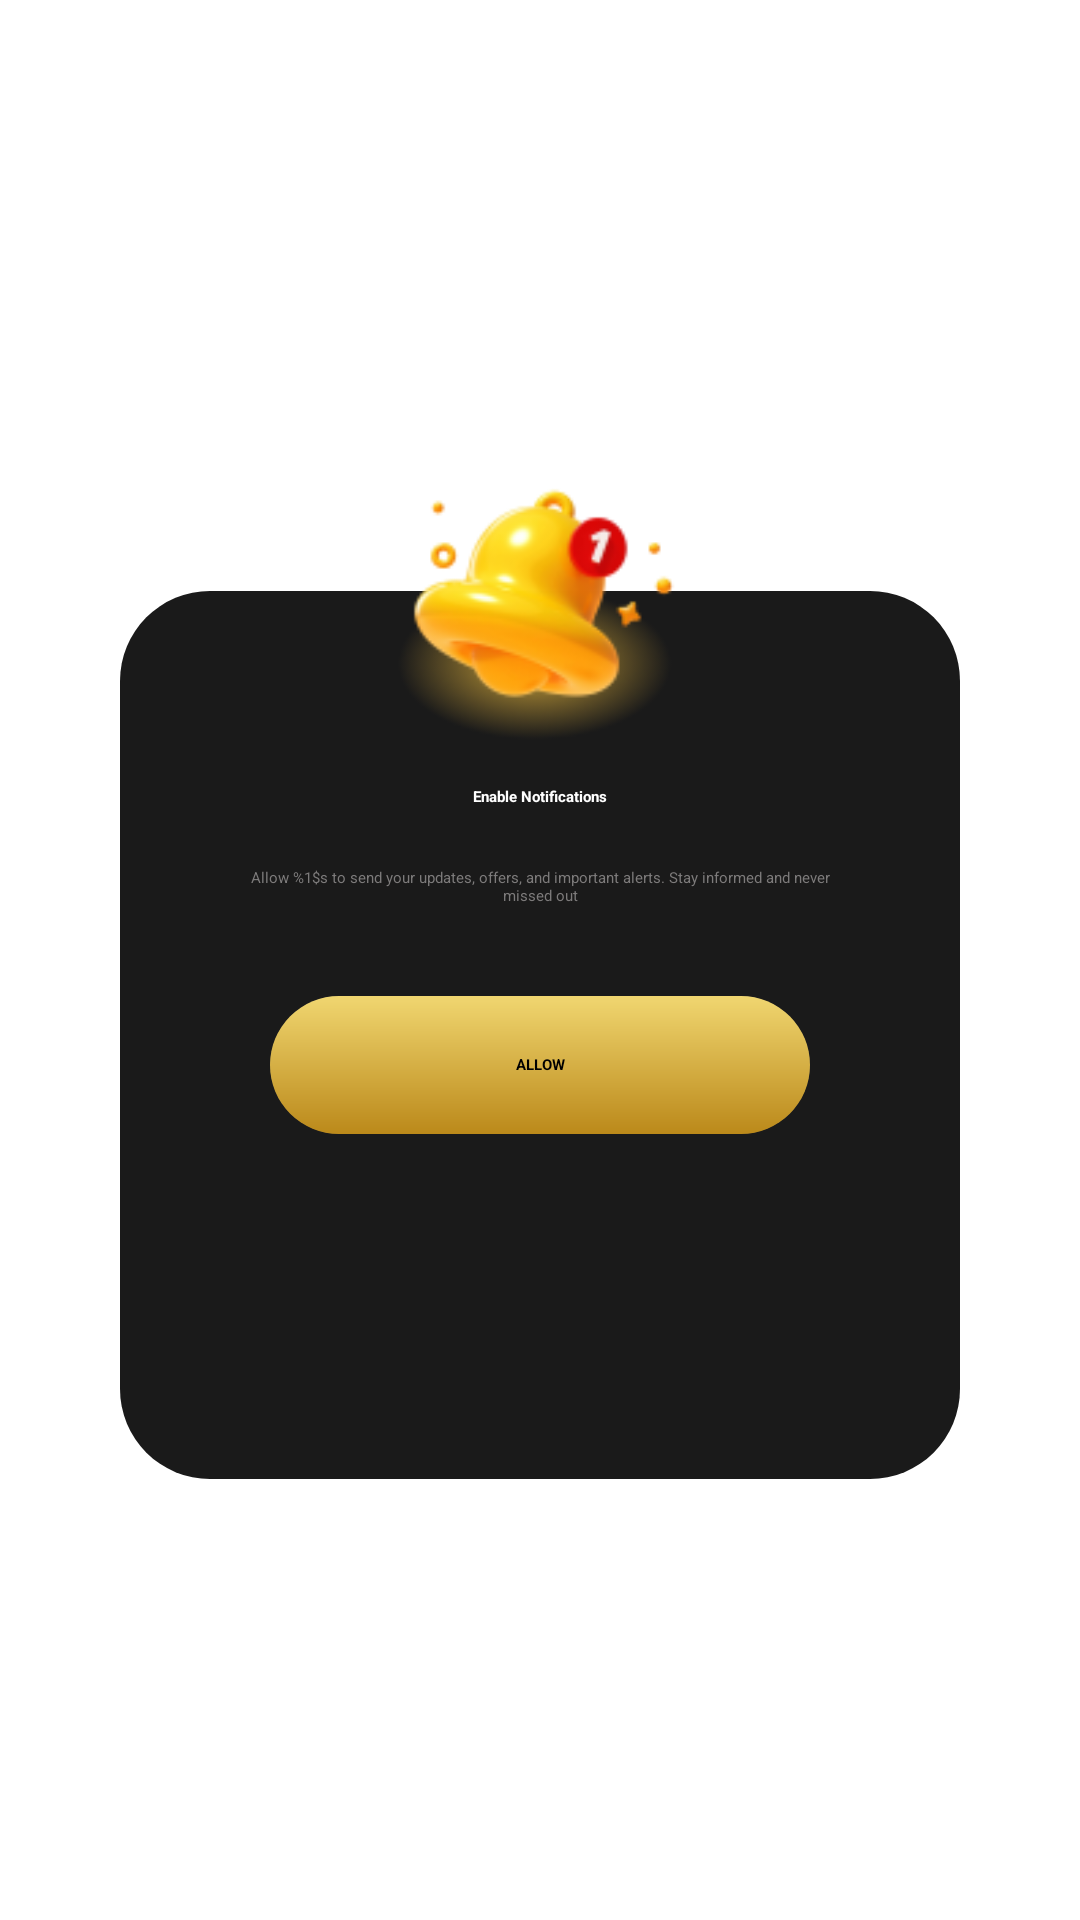

Where to tap for icons on this 1080x1920 app screen, as (x,y):
notification alert bell: (540,592)
